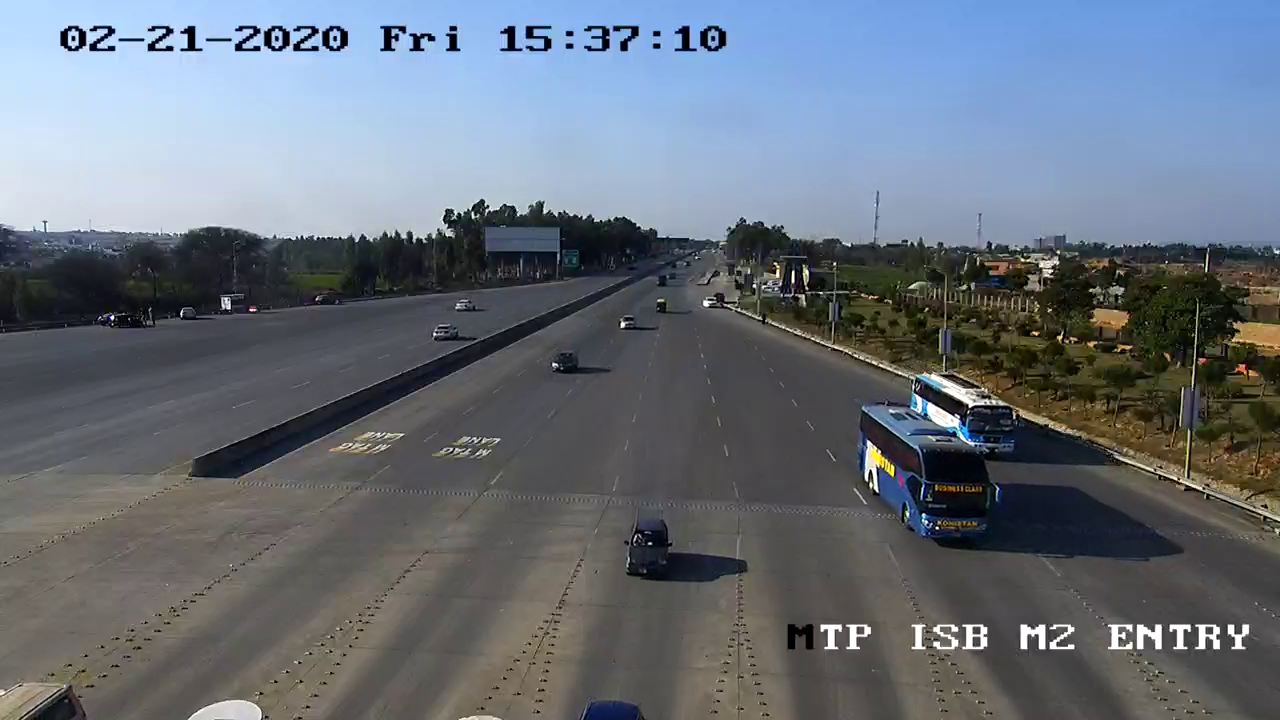f1: (617, 503, 686, 584)
f4: (831, 396, 1014, 564)
